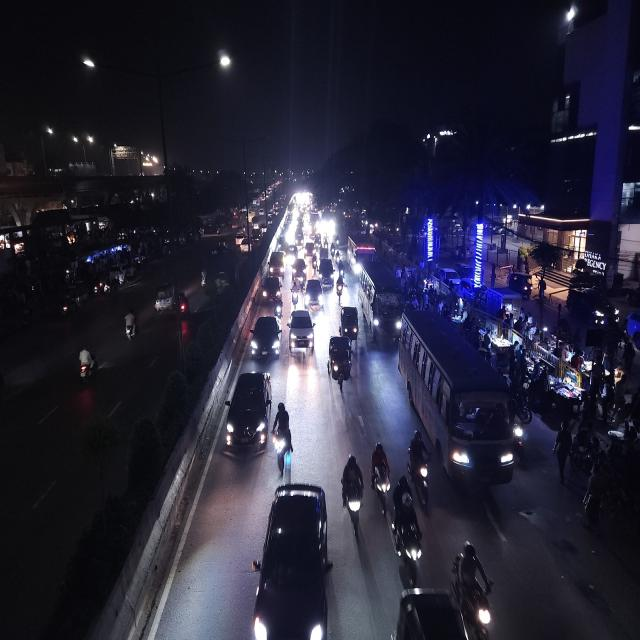bus: (397, 306, 519, 488), (359, 259, 405, 345), (347, 232, 376, 270)
car: (252, 477, 332, 640), (223, 366, 272, 458), (248, 311, 282, 363), (288, 306, 316, 360), (304, 276, 324, 314), (260, 275, 284, 303), (290, 257, 308, 285), (268, 250, 286, 278), (319, 260, 335, 288), (238, 236, 252, 256)
cng: (326, 332, 354, 392), (152, 278, 176, 319), (339, 303, 360, 347), (177, 288, 190, 318)
motorcycle: (452, 537, 496, 640), (390, 476, 424, 582), (340, 450, 365, 538), (407, 429, 433, 507), (272, 399, 294, 474), (370, 439, 391, 512), (75, 344, 98, 387), (120, 308, 140, 345), (336, 274, 346, 303), (199, 262, 209, 291), (288, 281, 298, 309), (336, 260, 346, 287), (274, 295, 284, 319)
pedestrian: (552, 420, 576, 481)
